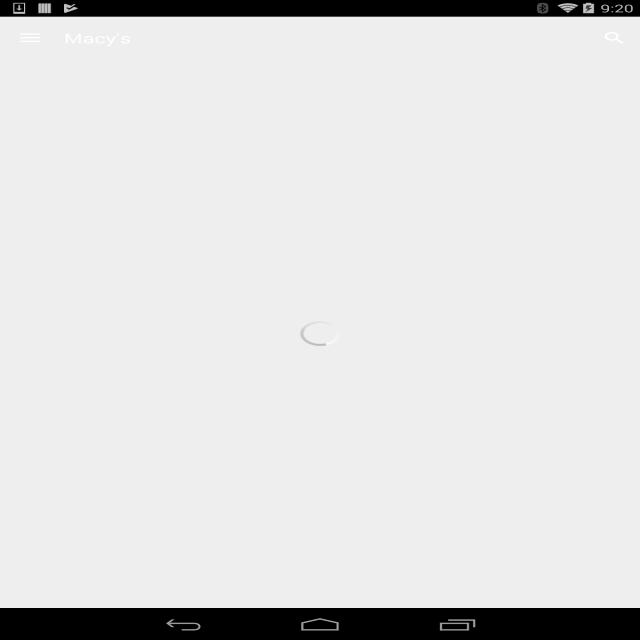Button: (222, 352, 409, 376), (427, 352, 614, 376)
ImageButton: (0, 17, 60, 59)
ImageView: (0, 59, 640, 254), (26, 270, 196, 377), (60, 30, 224, 46), (597, 22, 640, 54), (26, 548, 51, 564), (222, 312, 239, 323)
TextView: (0, 490, 640, 519), (77, 566, 614, 593), (222, 270, 614, 295), (77, 548, 614, 566), (25, 380, 166, 392), (546, 22, 597, 54), (222, 295, 304, 309), (245, 311, 316, 325)
